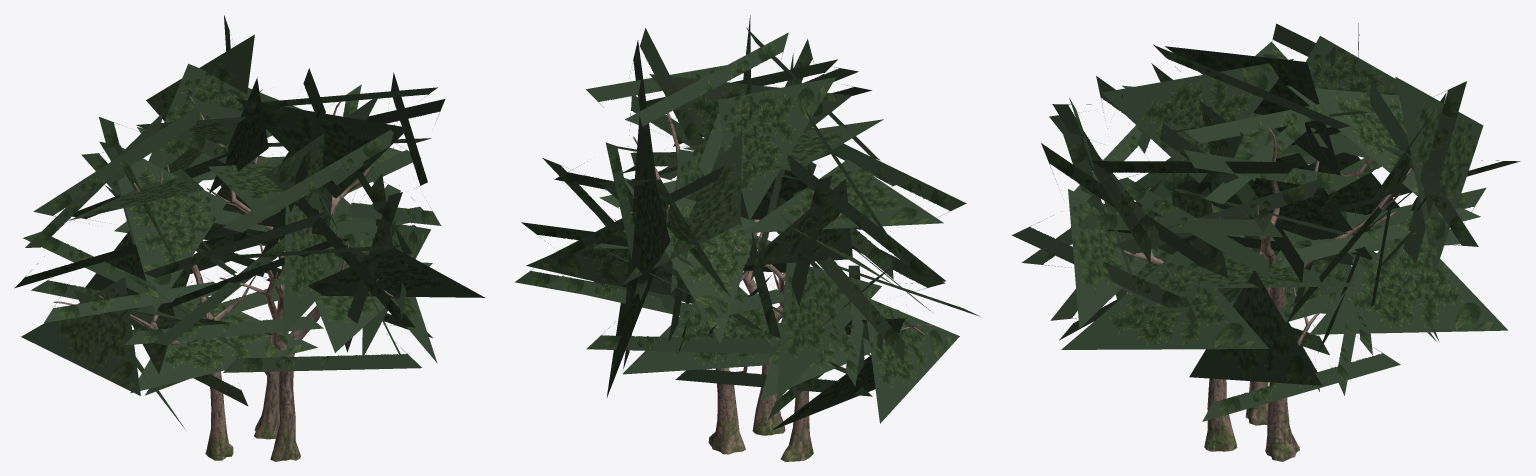
The model's file is Seedling.fbx.
3 views of the same model, side by side, from view 1: azimuth 30°, elevation 25°; view 2: azimuth 150°, elevation 25°; view 3: azimuth 270°, elevation 25° (orthographic). The views are drawn at different scales.
Visible parts, largest first — view 1: SM_d_114_Seedlings_01a; view 2: SM_d_114_Seedlings_01a; view 3: SM_d_114_Seedlings_01a.
Part boxes in pixels (x1,y1,x2,y2): SM_d_114_Seedlings_01a: [14, 15, 485, 461]; SM_d_114_Seedlings_01a: [515, 15, 980, 461]; SM_d_114_Seedlings_01a: [1012, 23, 1520, 461].
Bounding box in the file's own units: 409 × 340 × 386.
